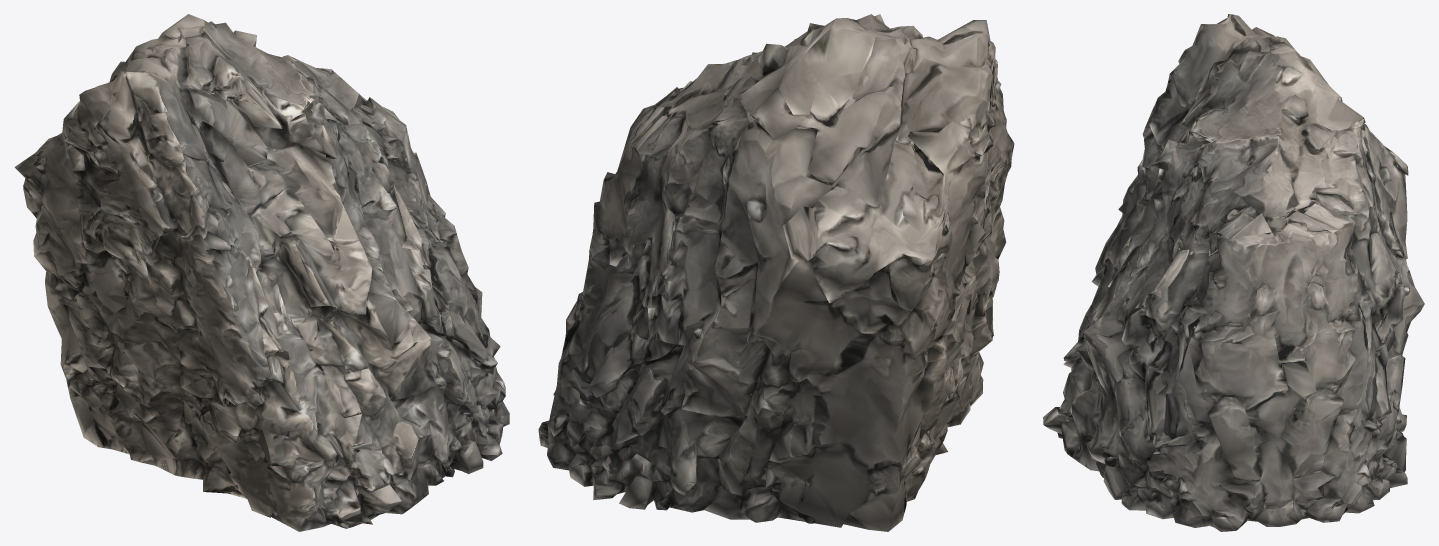
Rendered from crag_c_lod1.glb.
3 views of the same model, side by side, from view 1: azimuth 30°, elevation 25°; view 2: azimuth 150°, elevation 25°; view 3: azimuth 270°, elevation 25° (orthographic). The views are drawn at different scales.
Parts seen in each view (by area): view 1: crag_c_lod1; view 2: crag_c_lod1; view 3: crag_c_lod1.
Part boxes in pixels (box(x1,y1,x2,y2)): crag_c_lod1: box(14, 14, 509, 531); crag_c_lod1: box(538, 14, 1014, 531); crag_c_lod1: box(1043, 14, 1424, 531).
Bounding box in the file's own units: 53.47 × 54.01 × 50.69.
1 material, 1 textured.
